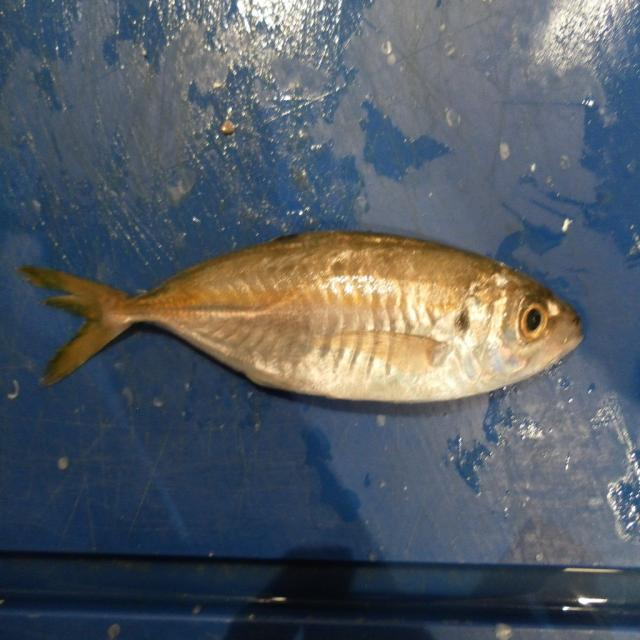Hourse-Mackerel-istavrit-: (19, 231, 584, 406)
